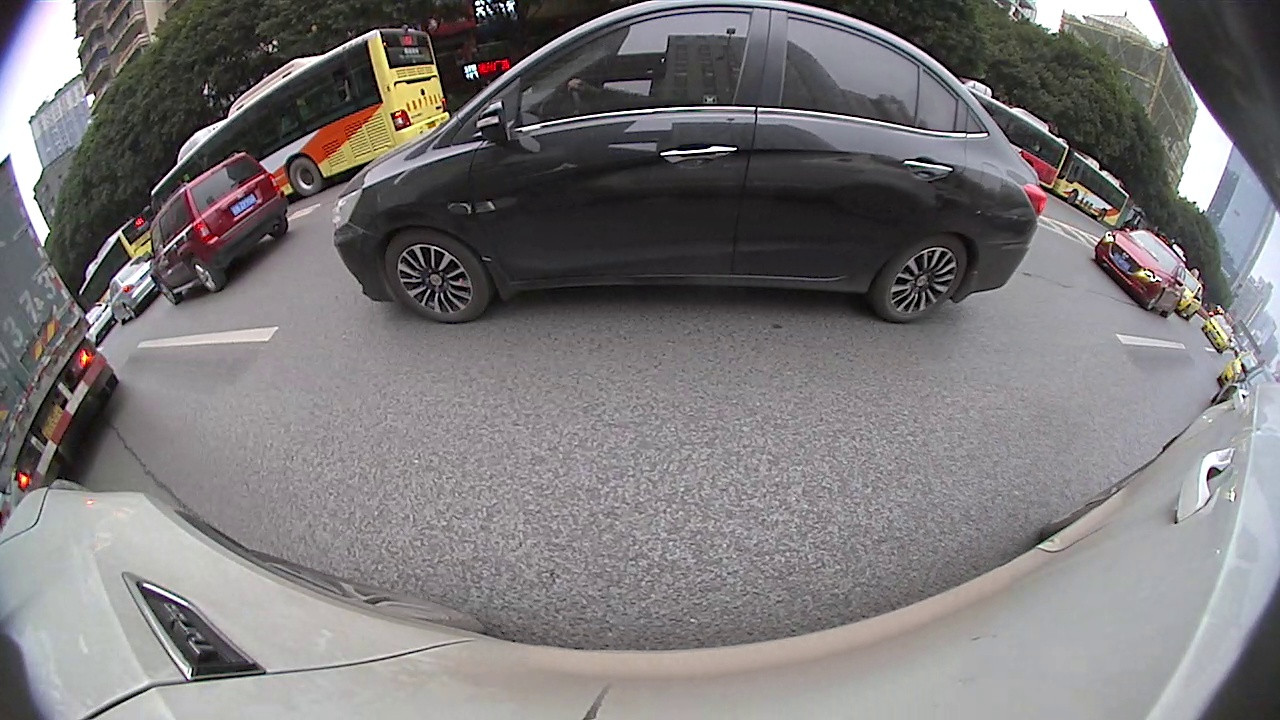bus: (148, 29, 449, 209), (961, 80, 1066, 193), (74, 210, 158, 311), (1060, 149, 1131, 228)
car: (329, 1, 1047, 326), (148, 151, 290, 307), (1094, 231, 1186, 317), (108, 259, 164, 324), (1218, 374, 1278, 403), (1174, 272, 1204, 318), (1208, 317, 1237, 351)
front: (379, 230, 495, 322), (159, 273, 177, 307), (1146, 287, 1166, 312), (1067, 188, 1080, 205)
rear: (873, 227, 964, 321), (189, 256, 227, 295), (291, 151, 322, 195), (1097, 208, 1108, 221)
truck: (1, 154, 119, 493)
